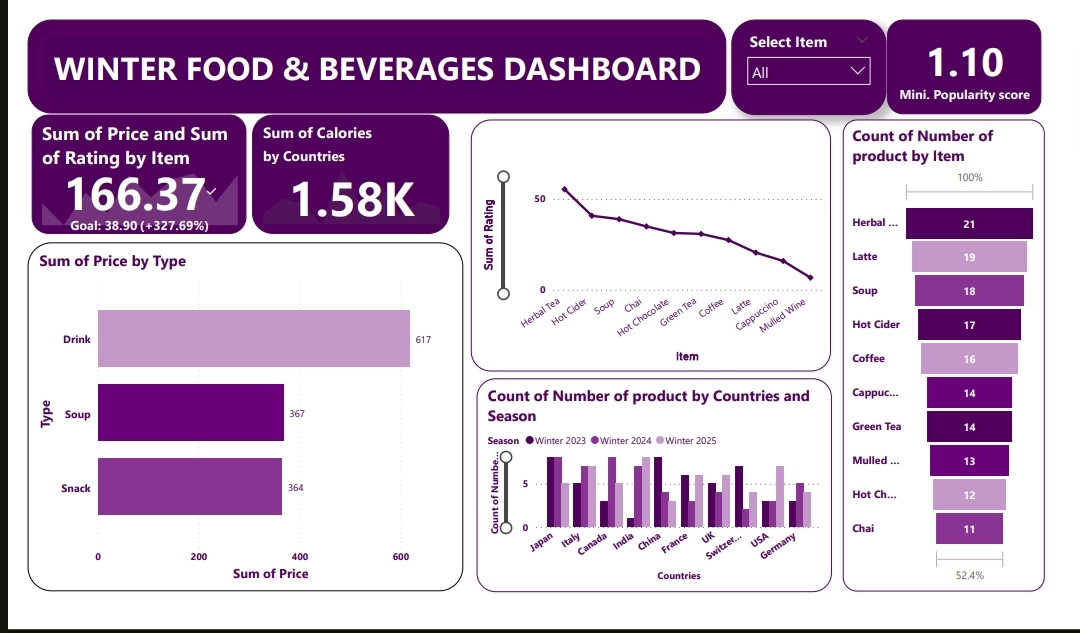

Layout of this report page (visuals, bound fields, positions):
{"tool":"powerbi","page":{"name":"Page 1","canvas":[1280,720],"ordinal":0},"visuals":[{"type":"shape","box":[0,0,878.6,117.9],"z":0},{"type":"slicer","fields":{"Values":["Winter_Food_and_Beverages.Item","Winter_Food_and_Beverages.Type"]},"box":[885.7,0,194.6,119.6],"z":1000},{"type":"kpi","fields":{"Indicator":["Sum(Winter_Food_and_Beverages.Price(USD))"],"TrendLine":["Winter_Food_and_Beverages.Item"],"Goal":["Sum(Winter_Food_and_Beverages.Rating)"]},"box":[4.9,119.7,270.2,150.5],"z":2000},{"type":"kpi","fields":{"TrendLine":["Winter_Food_and_Beverages.Countries"],"Indicator":["Sum(Winter_Food_and_Beverages.Calories)"]},"box":[282,120,248,150],"z":3000},{"type":"clusteredBarChart","fields":{"Category":["Winter_Food_and_Beverages.Type"],"Y":["Sum(Winter_Food_and_Beverages.Price )"]},"box":[0,280.4,548.2,439.3],"z":4000},{"type":"lineChart","fields":{"Category":["Winter_Food_and_Beverages.Item"],"Y":["Sum(Winter_Food_and_Beverages.Rating)"]},"box":[558.2,126.2,453,317.1],"z":5000},{"type":"clusteredColumnChart","fields":{"Y":["CountNonNull(Winter_Food_and_Beverages.Number of product)"],"Category":["Winter_Food_and_Beverages.Countries"],"Series":["Winter_Food_and_Beverages.Season"]},"box":[564.7,451.4,446.6,268.6],"z":6000},{"type":"card","fields":{"Values":["Min(Winter_Food_and_Beverages.Popularity_Score)"]},"box":[1081.8,0,193.5,119.5],"z":7000},{"type":"funnel","fields":{"Y":["CountNonNull(Winter_Food_and_Beverages.Number of product)"],"Category":["Winter_Food_and_Beverages.Item"]},"box":[1025.8,126.2,254,593.8],"z":8000}]}

Visuals, with their boxes in screenshot pixels (x1, y1, x2, y2):
shape: x1=17, y1=14, x2=722, y2=109
slicer - Winter_Food_and_Beverages.Item x Winter_Food_and_Beverages.Type: x1=728, y1=14, x2=884, y2=110
kpi - Sum(Winter_Food_and_Beverages.Price(USD)) x Winter_Food_and_Beverages.Item: x1=21, y1=110, x2=238, y2=231
kpi - Winter_Food_and_Beverages.Countries x Sum(Winter_Food_and_Beverages.Calories): x1=243, y1=110, x2=442, y2=231
clusteredBarChart - Winter_Food_and_Beverages.Type x Sum(Winter_Food_and_Beverages.Price ): x1=17, y1=239, x2=457, y2=592
lineChart - Winter_Food_and_Beverages.Item x Sum(Winter_Food_and_Beverages.Rating): x1=465, y1=115, x2=828, y2=370
clusteredColumnChart - CountNonNull(Winter_Food_and_Beverages.Number of product) x Winter_Food_and_Beverages.Countries: x1=470, y1=376, x2=829, y2=592
card - Min(Winter_Food_and_Beverages.Popularity_Score): x1=885, y1=14, x2=1040, y2=110
funnel - CountNonNull(Winter_Food_and_Beverages.Number of product) x Winter_Food_and_Beverages.Item: x1=840, y1=115, x2=1044, y2=592
